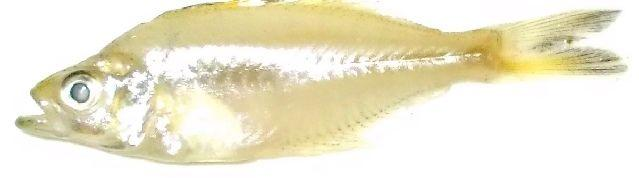Glass Perchlet: (14, 0, 633, 168)
